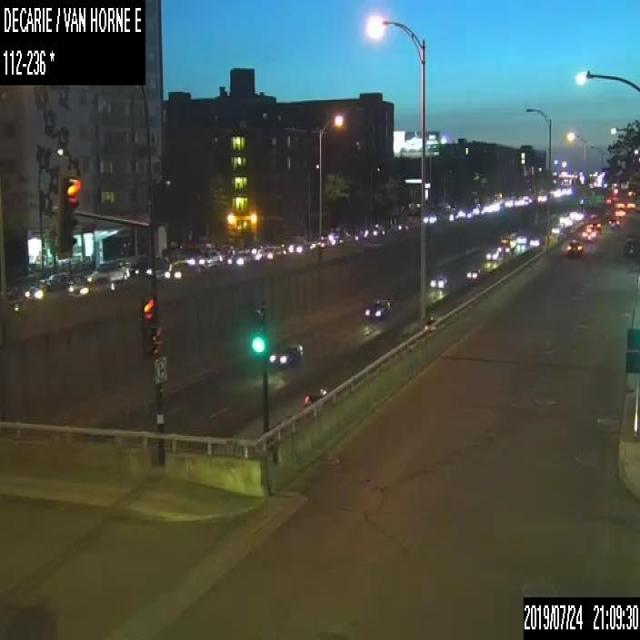vehicle: (267, 340, 303, 369), (133, 255, 168, 277), (363, 294, 391, 318), (165, 260, 199, 278), (302, 384, 328, 406), (22, 278, 48, 298), (66, 276, 89, 296), (42, 271, 70, 287), (227, 250, 251, 264), (428, 272, 449, 287), (258, 244, 280, 258), (288, 235, 306, 252), (496, 239, 512, 254), (566, 239, 582, 254), (624, 237, 636, 255), (316, 235, 330, 248), (465, 266, 480, 278), (589, 218, 601, 233), (581, 228, 595, 240), (607, 215, 619, 229), (485, 247, 498, 259), (614, 201, 624, 216), (425, 213, 437, 222)
